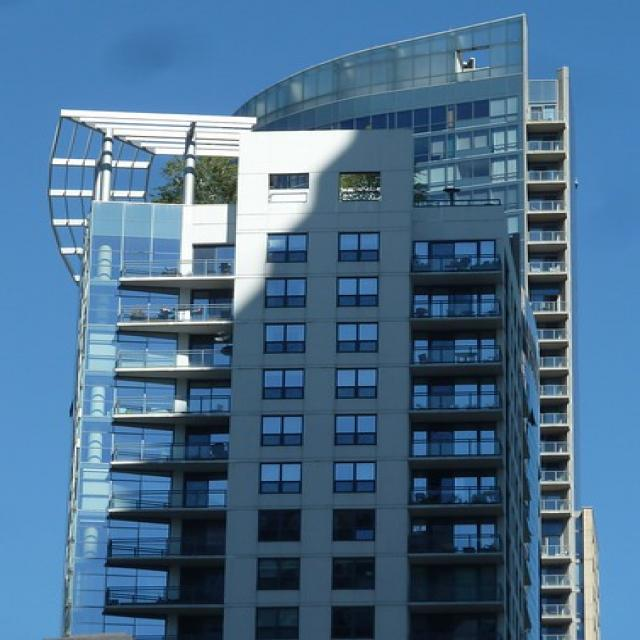Normal_building: (33, 11, 605, 640)
